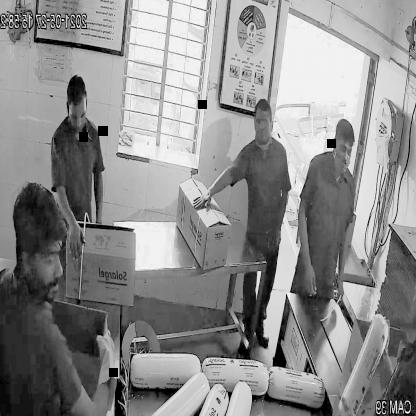no_goggles: (21, 246, 66, 276), (330, 137, 356, 159), (250, 113, 272, 132)
